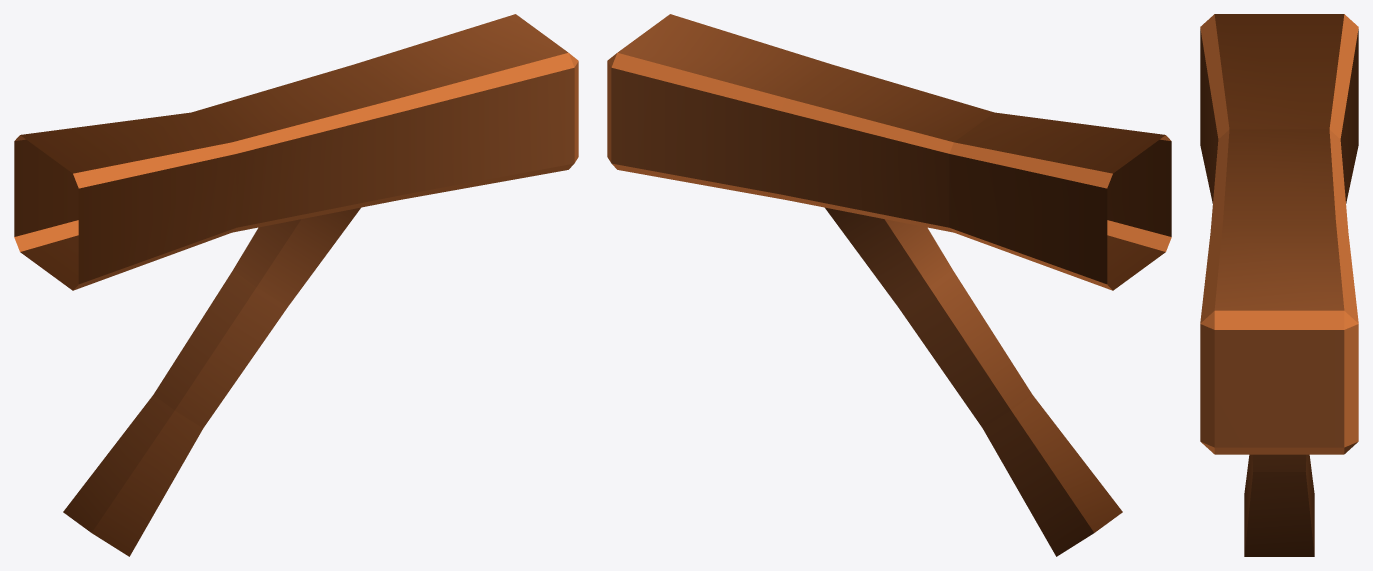
The model's file is pillar_02.fbx.
3 renders of one model, left to right at view 1: azimuth 30°, elevation 25°; view 2: azimuth 150°, elevation 25°; view 3: azimuth 270°, elevation 25°, orthographic. The views are drawn at different scales.
Parts seen in each view (by area): view 1: Cube.076; view 2: Cube.076; view 3: Cube.076.
Boxes of the visible parts, box(x1,y1,x2,y2) form: Cube.076: box(14, 14, 578, 556); Cube.076: box(607, 14, 1171, 556); Cube.076: box(1200, 14, 1358, 556).
Bounding box in the file's own units: 1.15 × 0.8912 × 0.2553.
